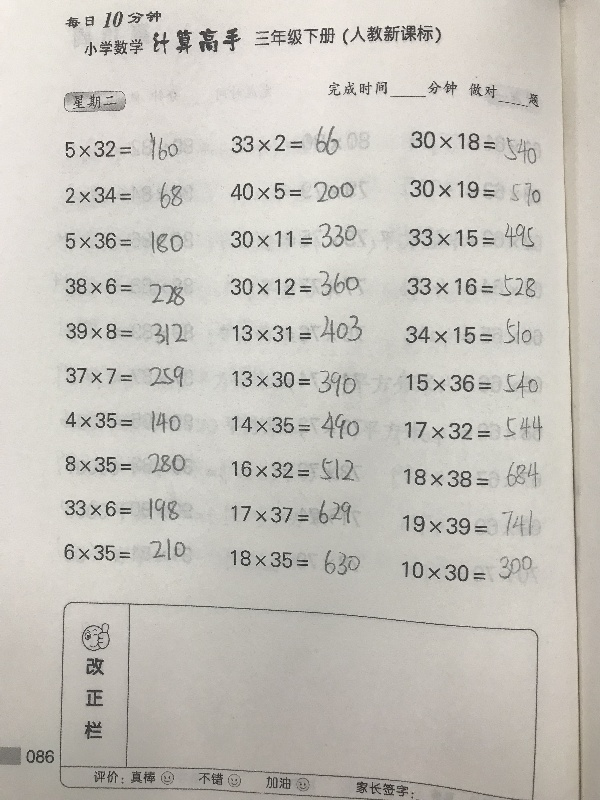equation: (406, 174, 547, 210), (399, 456, 546, 490), (403, 365, 540, 400), (227, 544, 363, 579), (230, 311, 366, 346), (60, 130, 184, 168), (63, 174, 187, 212), (65, 220, 189, 258), (63, 270, 187, 308), (64, 315, 188, 353), (62, 357, 186, 395), (62, 404, 186, 442), (60, 446, 184, 484), (59, 493, 183, 531), (402, 412, 546, 444), (228, 405, 363, 439), (228, 267, 363, 300), (399, 506, 538, 538), (402, 315, 536, 348), (228, 363, 359, 396), (407, 128, 542, 160), (228, 220, 361, 252), (228, 123, 343, 160), (406, 219, 538, 251), (403, 269, 539, 300), (398, 554, 536, 584), (59, 538, 188, 569), (228, 497, 355, 528), (227, 453, 360, 482), (227, 178, 358, 206)
